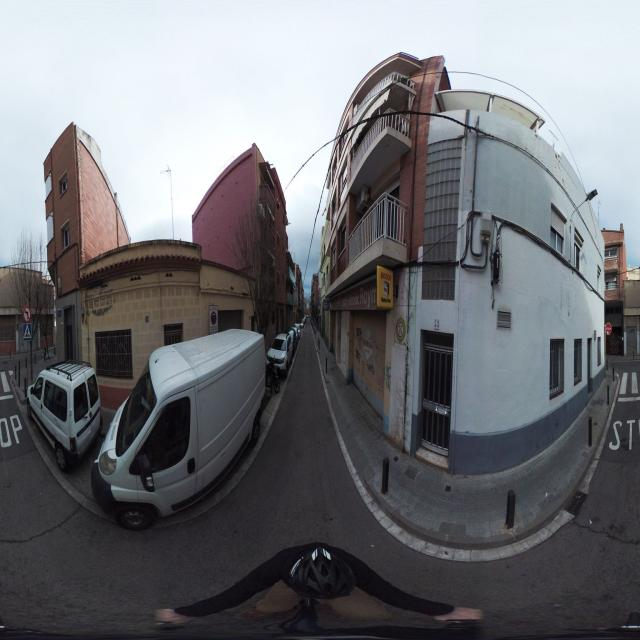forb_stopping: (211, 313, 216, 325)
